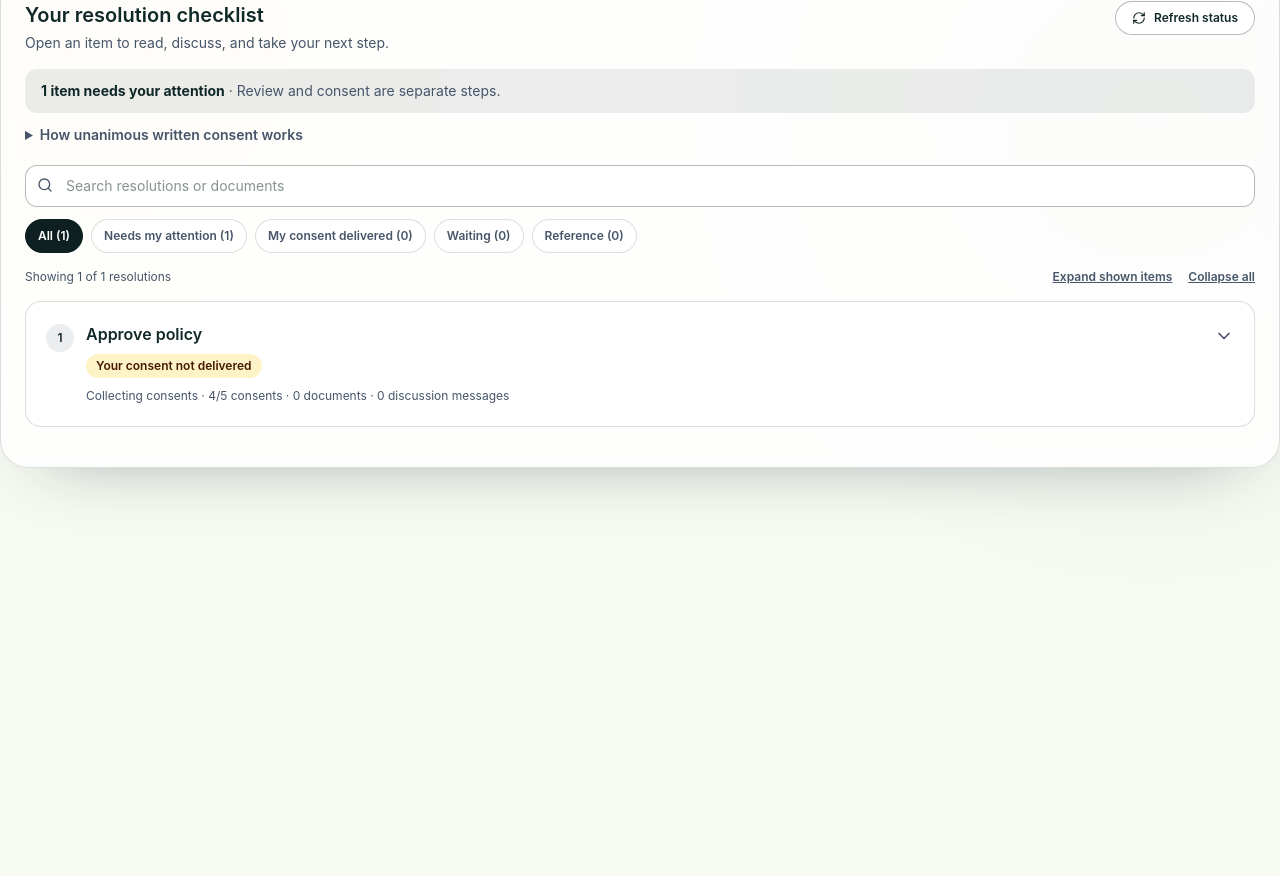
Test: AsyncBallots › requires an explicit signature and delivers consent to the displayed resolution hash
This screenshot has width=1280, height=876.
Click the button "Expand shown items".
click(1112, 277)  # box top-left (1053, 265), bottom-right (1172, 289)
(page scrolled)
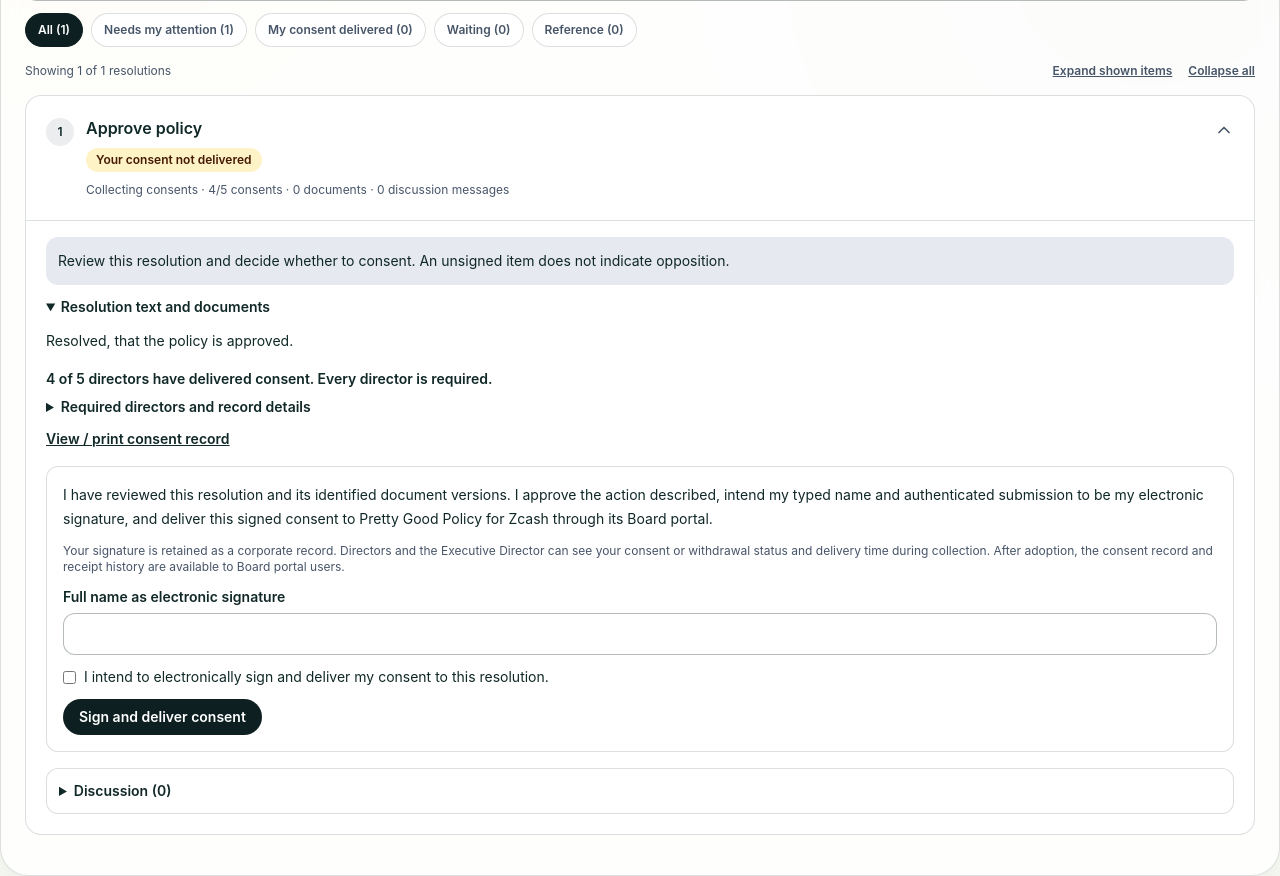
Expected: the text "4 of 5 directors have delivered consent" is shown, top-left (46, 370), bottom-right (492, 387)
Click the button "Sign and deliver consent".
click(162, 717)  # box top-left (63, 699), bottom-right (262, 735)
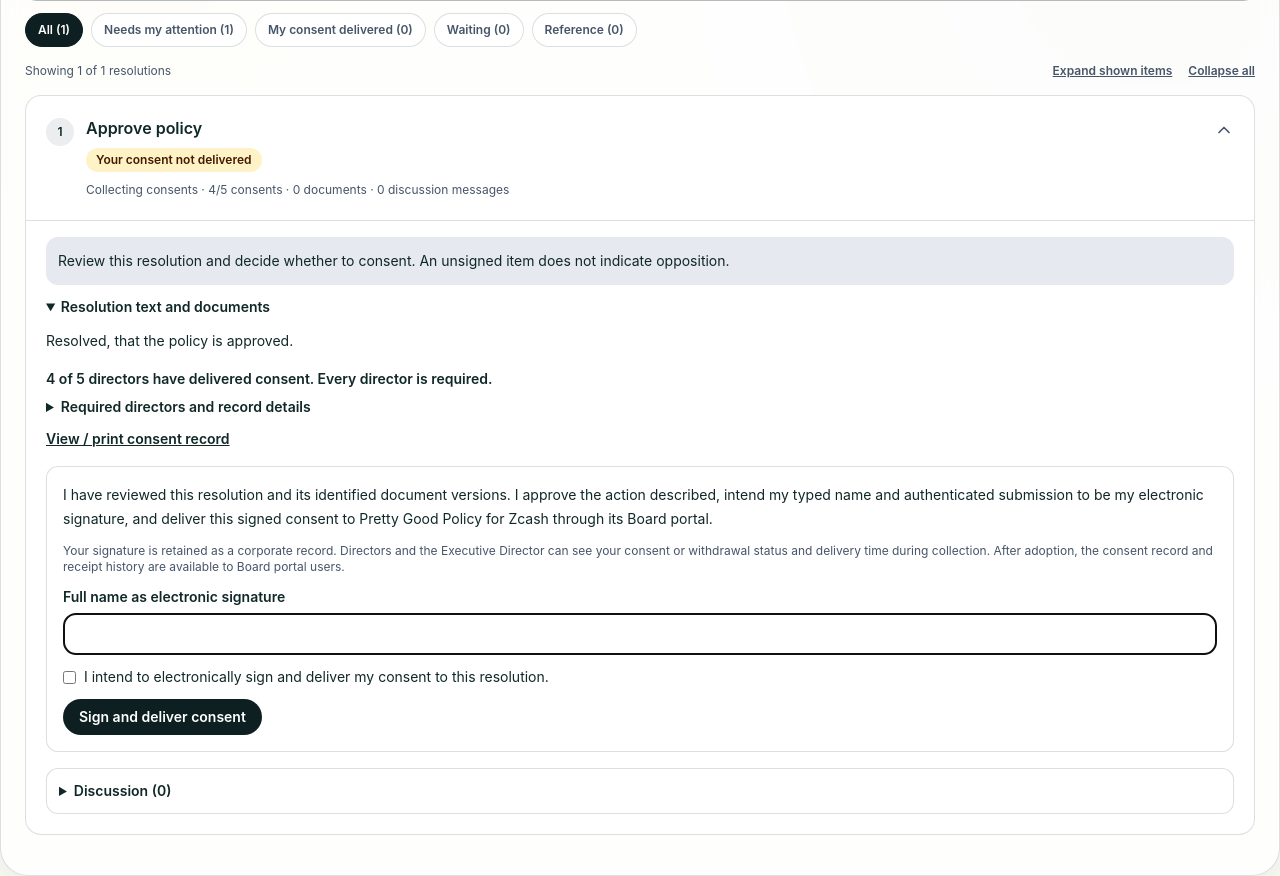
Type "Director Five" into the field labelled "Full name as electronic signature".
click(640, 634); type("Director Five")  # box top-left (63, 613), bottom-right (1217, 655)
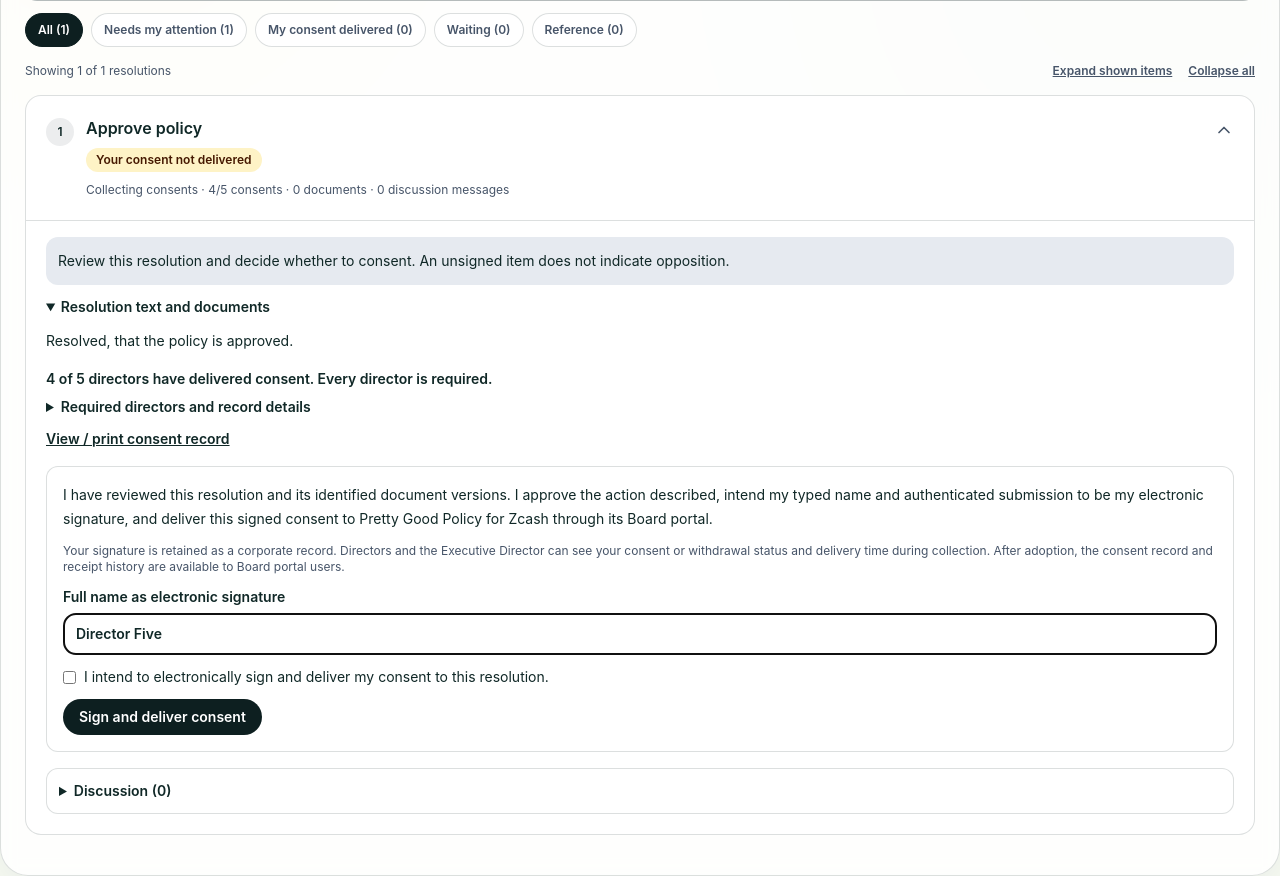
Click the checkbox labelled "I intend to electronically sign".
click(70, 678)  # box top-left (63, 671), bottom-right (76, 684)
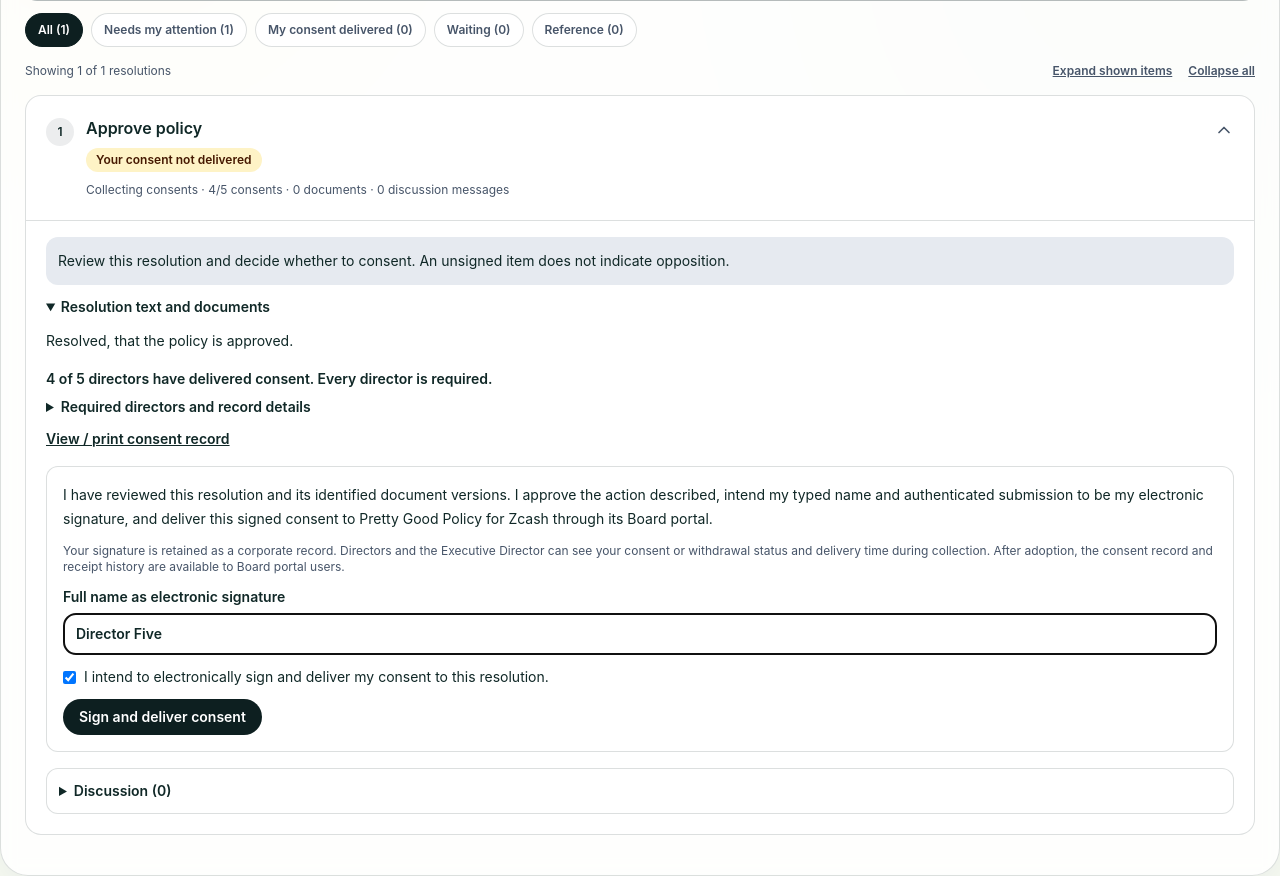
Click the button "Sign and deliver consent".
click(162, 717)  # box top-left (63, 699), bottom-right (262, 735)
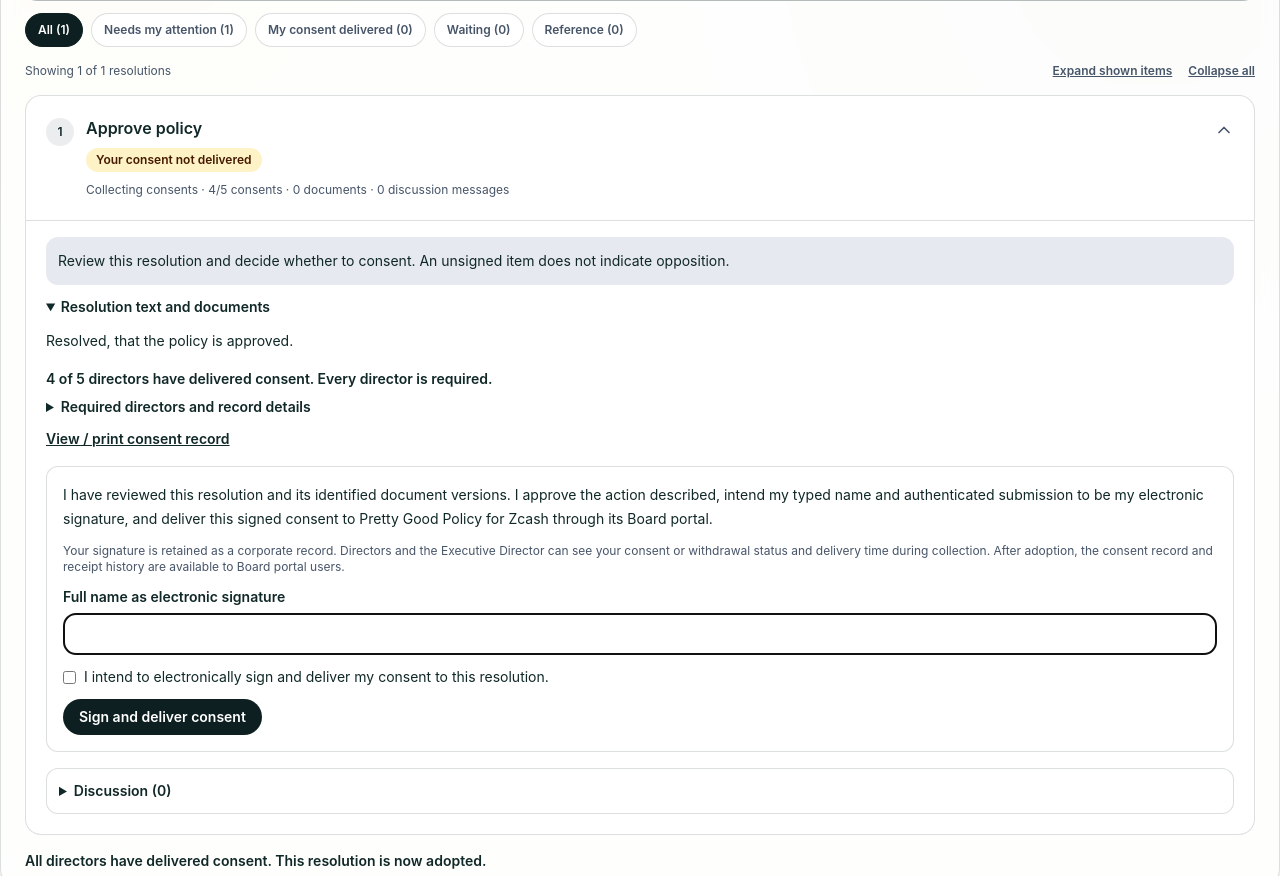
Expected: the text "All directors have delivered consent. This resolution is now adopted." is shown, top-left (25, 852), bottom-right (486, 869)
